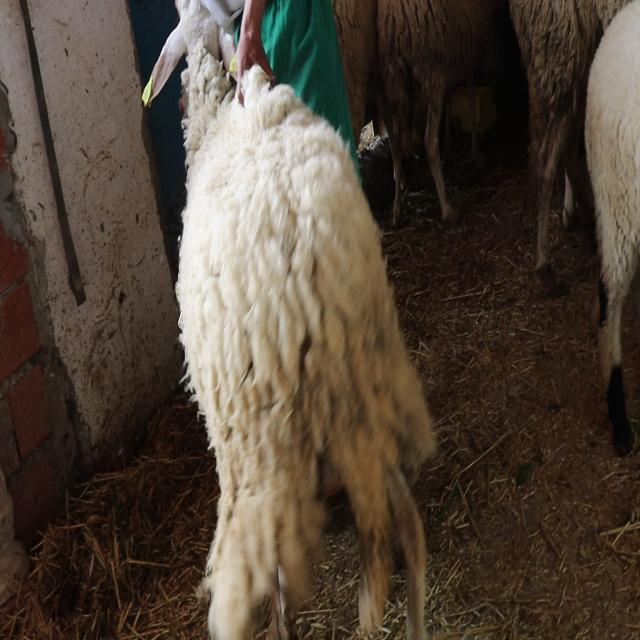Score_4: (142, 0, 436, 639)
